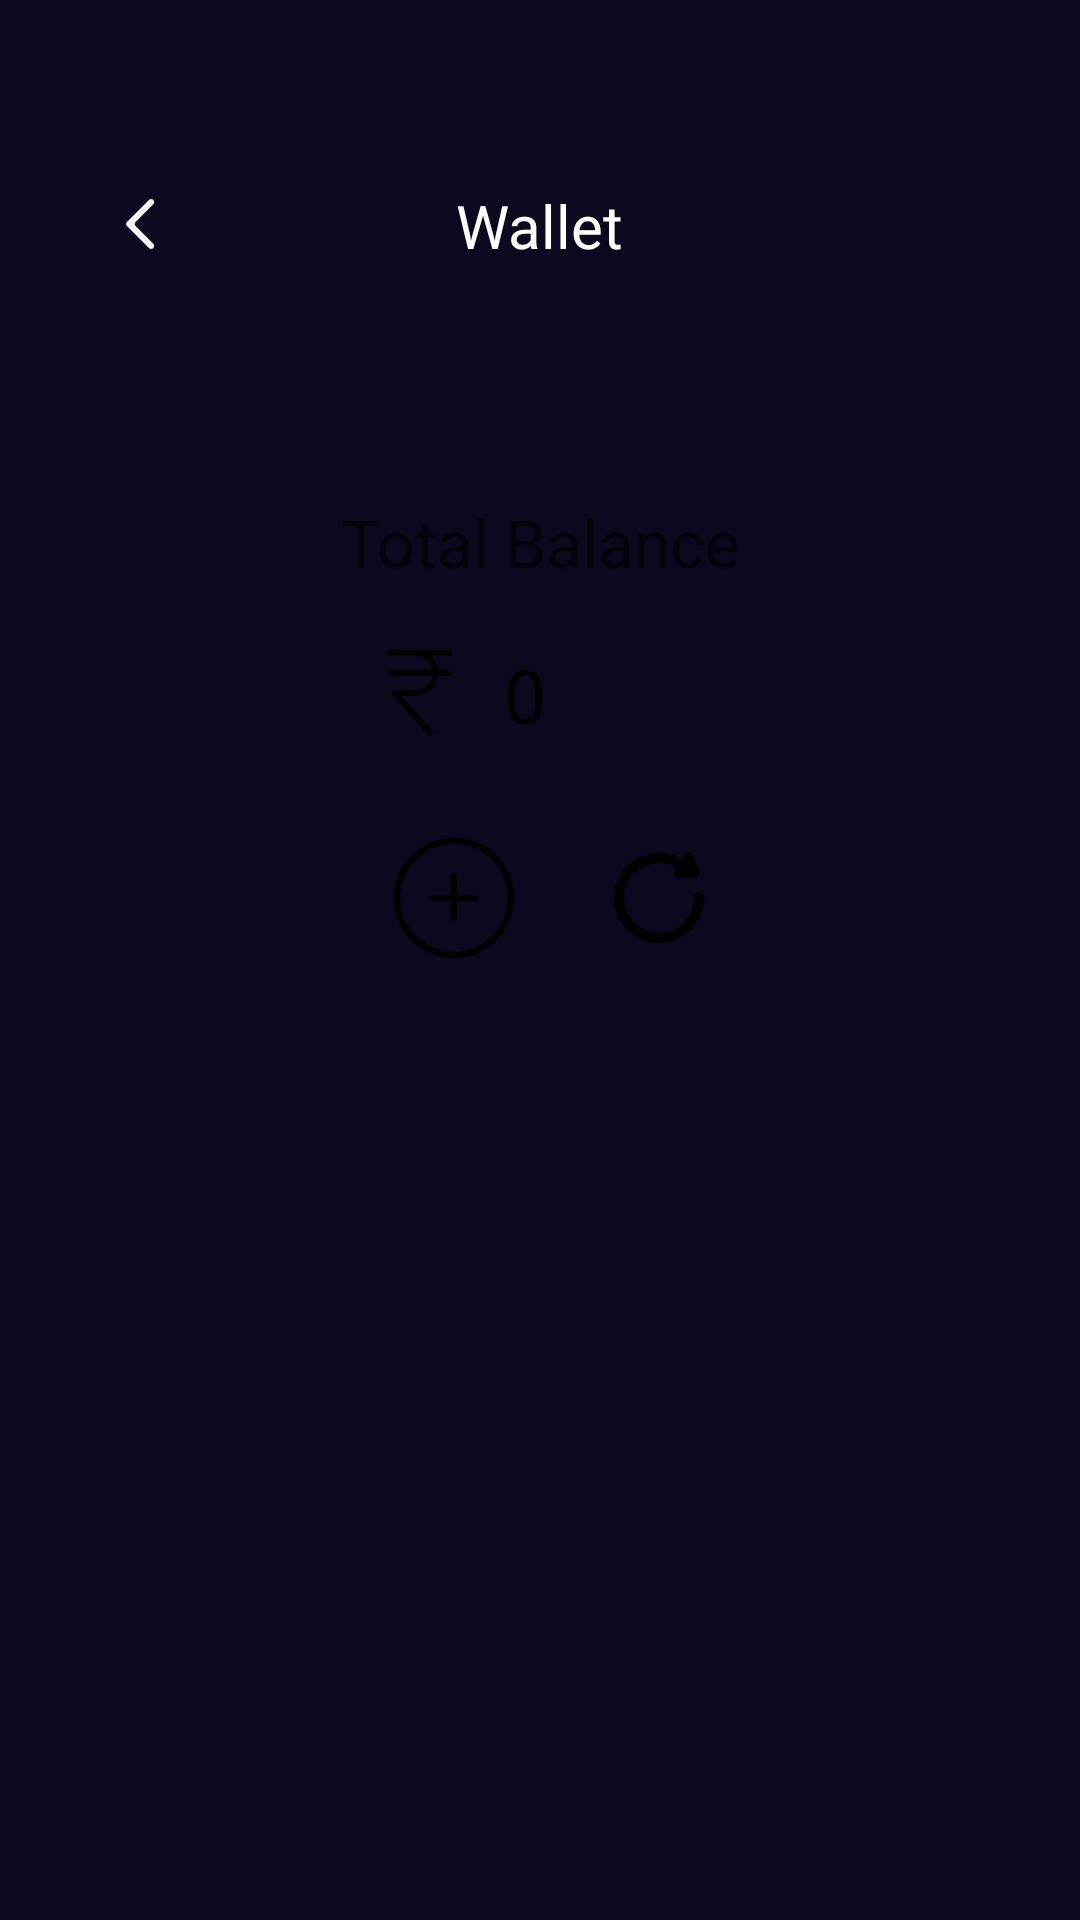

Locate icon controls on the screen. Image size 1080*1920, boxes as (x1, y1, x2, y2).
backicon: (126, 199, 154, 249)
plusicon: (394, 838, 514, 958)
reseticon: (614, 853, 704, 943)
rupeeicon: (388, 650, 452, 735)
